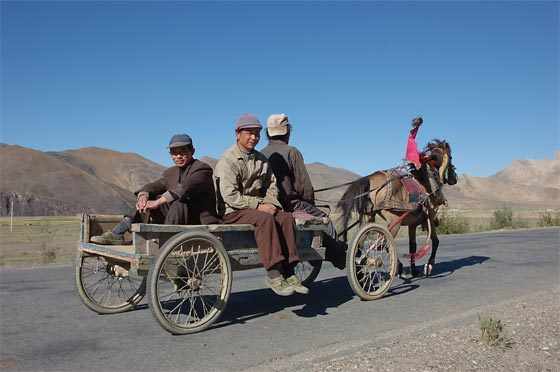horse: (337, 136, 462, 283)
